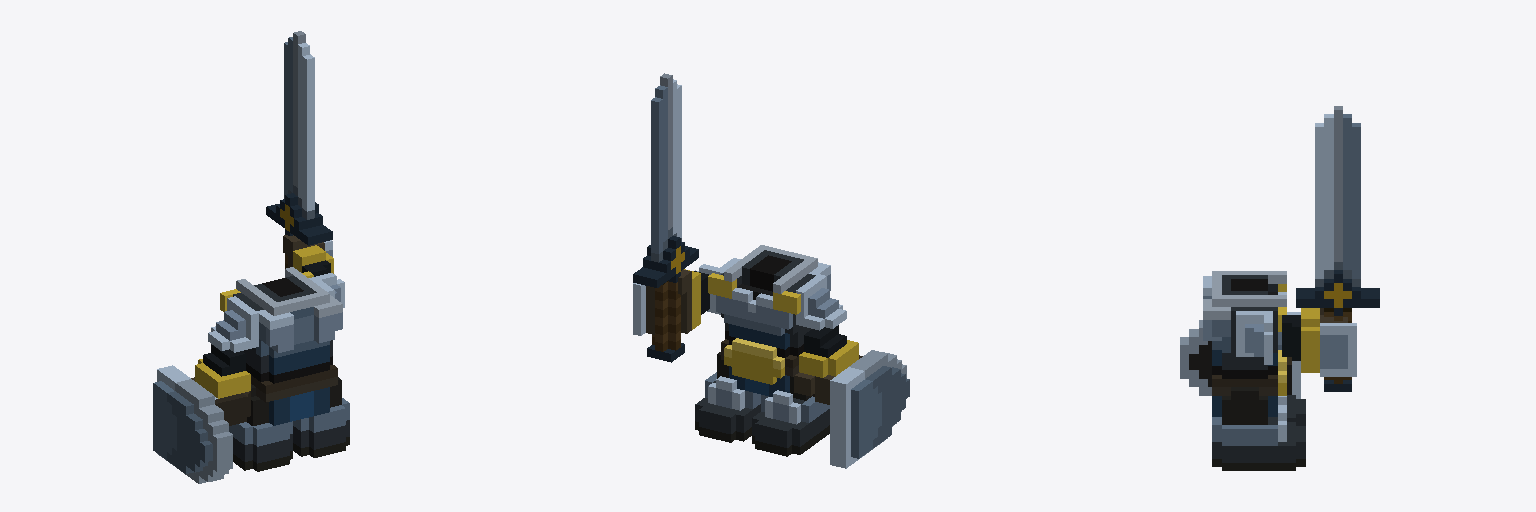
The picture shows the model from 3 angles: view 1: azimuth 30°, elevation 25°; view 2: azimuth 150°, elevation 25°; view 3: azimuth 270°, elevation 25°; orthographic projection.
Visible parts, largest first — view 1: Compound, shield, Matrix_41; view 2: Compound, Matrix_41, shield; view 3: Compound, Matrix_41, shield.
Boxes of the visible parts, x1=… form: Compound: x1=191, y1=235, x2=349, y2=471; shield: x1=153, y1=365, x2=250, y2=483; Matrix_41: x1=266, y1=31, x2=332, y2=268; Compound: x1=633, y1=245, x2=858, y2=456; Matrix_41: x1=633, y1=73, x2=698, y2=362; shield: x1=812, y1=350, x2=909, y2=468; Compound: x1=1203, y1=271, x2=1356, y2=470; Matrix_41: x1=1296, y1=106, x2=1379, y2=391; shield: x1=1180, y1=312, x2=1300, y2=398.
Size of the model in its own units: 48 by 87 by 43.
Materials: 1 (1 with a texture image).